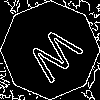W: (25, 25, 91, 91)
